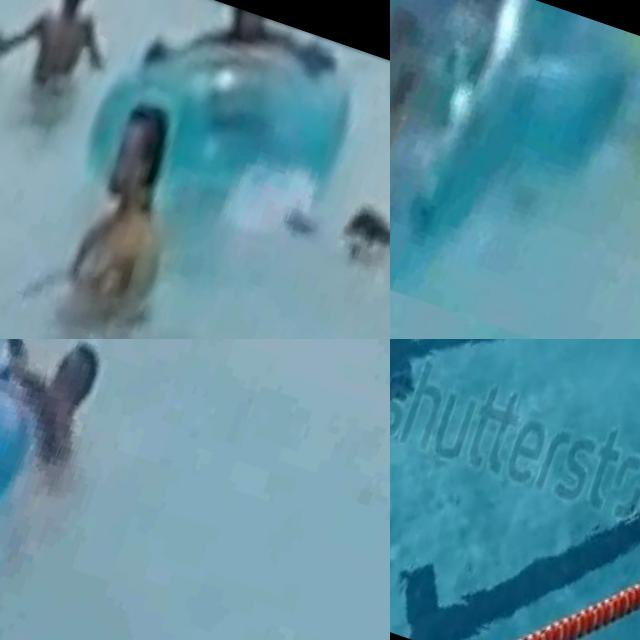drowning: (0, 339, 182, 527), (266, 145, 390, 328)
swimming: (27, 82, 236, 339), (0, 0, 146, 118), (390, 2, 466, 222)
